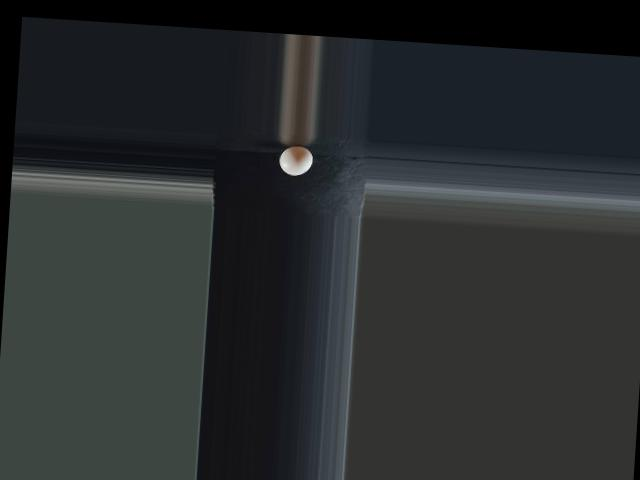egg: (279, 145, 314, 177)
